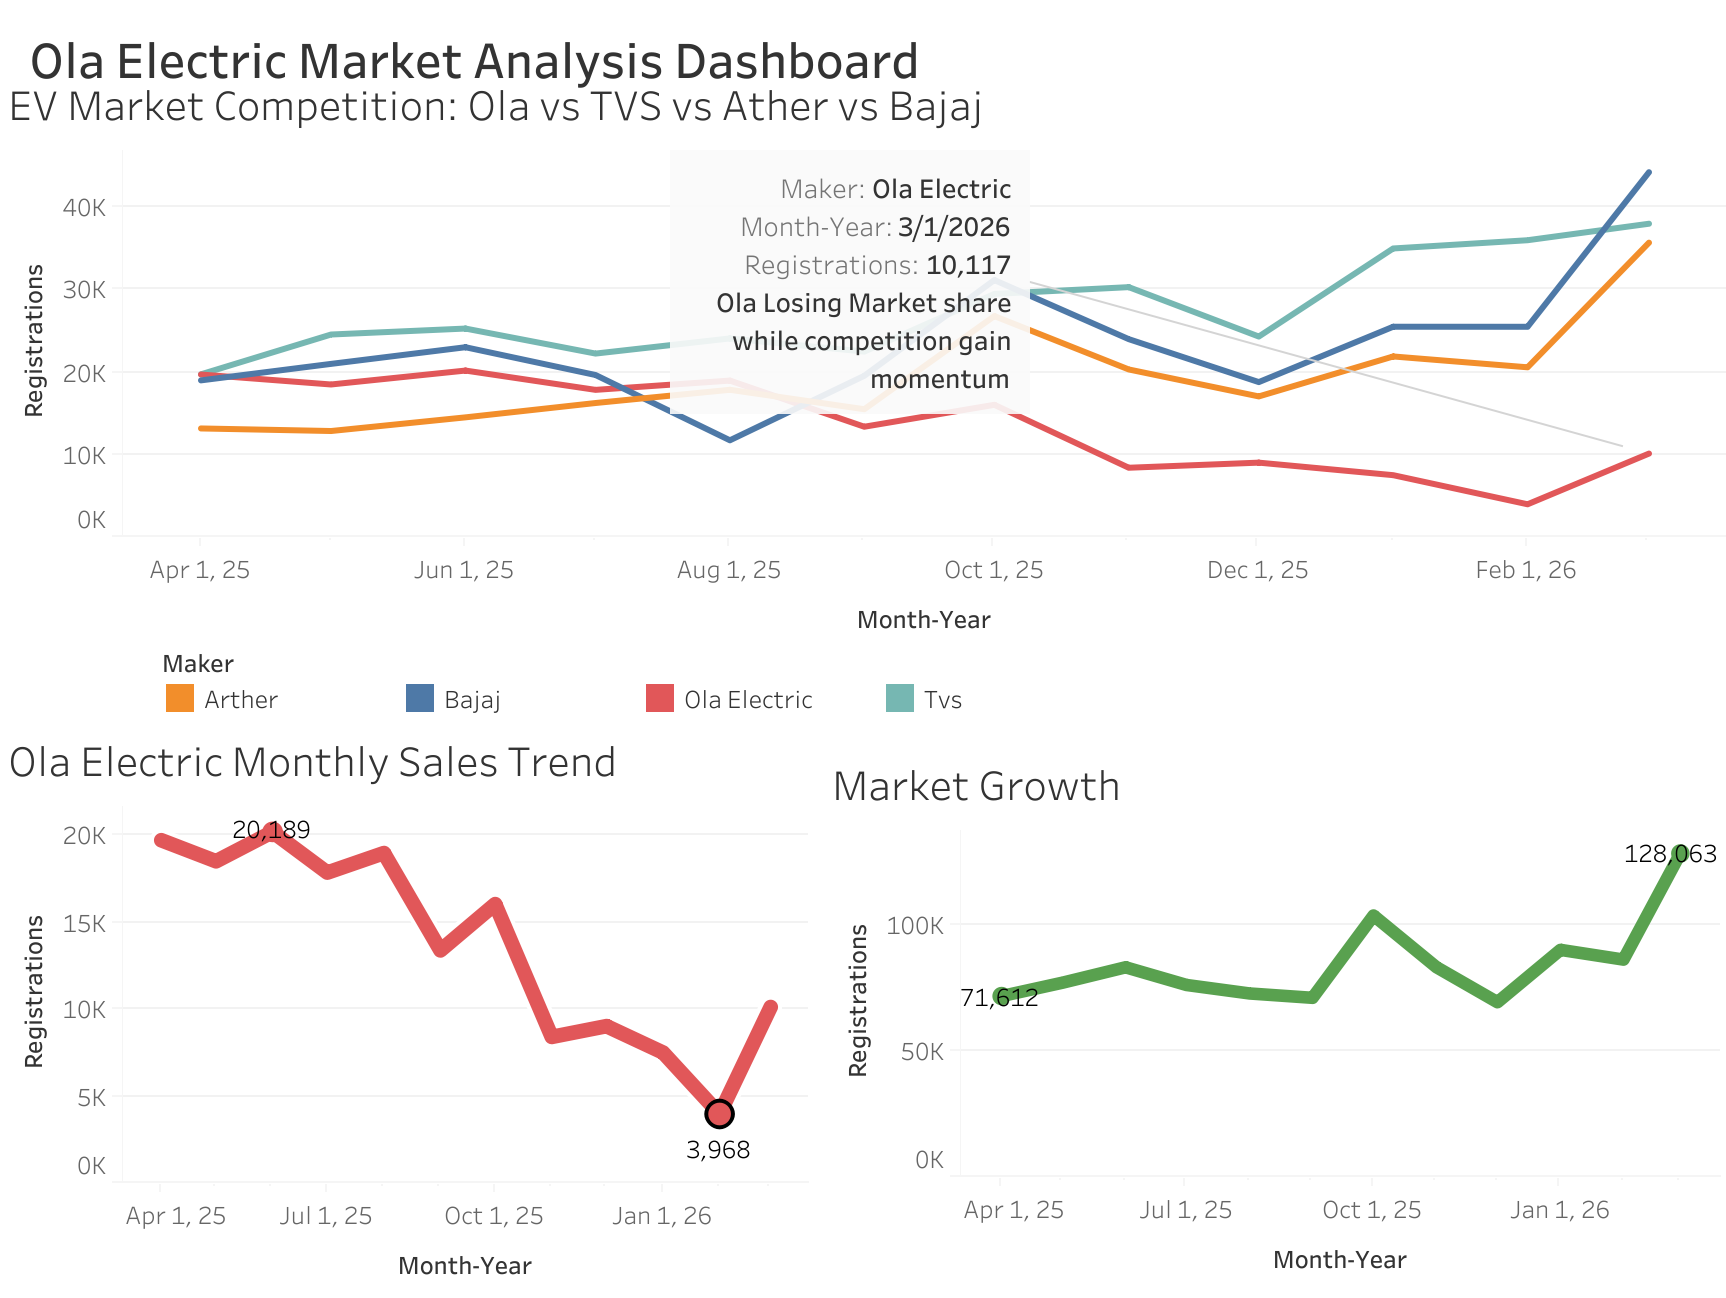

This screenshot's page, from the dashboard's own definition file:
{"tool":"tableau","page":{"name":"Dashboard 1","canvas":[1000,1000],"units":"permille","ordinal":0},"visuals":[{"type":"title","box":[6.4,11.2,987.3,57.3]},{"type":"worksheet","title":"Sheet 3","mark":"Automatic","rows":["Registrations"],"cols":["Month-Year"],"box":[0,49.3,998.5,450.7]},{"type":"legend","title":"Sheet 3","param":"[federated.1qox6dt0uvua5p14hwzt11owotjp].[none:Maker:nk]","box":[92.3,491.6,836.9,63.7]},{"type":"worksheet","title":"Sheet 2","mark":"Automatic","rows":["Registrations"],"cols":["Month-Year"],"box":[0,554.1,467.7,443.5]},{"type":"worksheet","title":"Sheet 1","mark":"Automatic","rows":["Registrations"],"cols":["Month-Year"],"box":[476.9,572.1,518.5,420.7]}]}

Visuals, with their boxes on the dashboard's canvas, which has no fixed pixel size, in thousandths of its width and height (x1, y1, x2, y2). These are canvas units, not pixel positions in the 1726x1298 screenshot, which may show the page scaled, cropped or inside an application window:
title: 6/11/994/68
"Sheet 3" worksheet: 0/49/998/500
"Sheet 3" legend: 92/492/929/555
"Sheet 2" worksheet: 0/554/468/998
"Sheet 1" worksheet: 477/572/995/993
